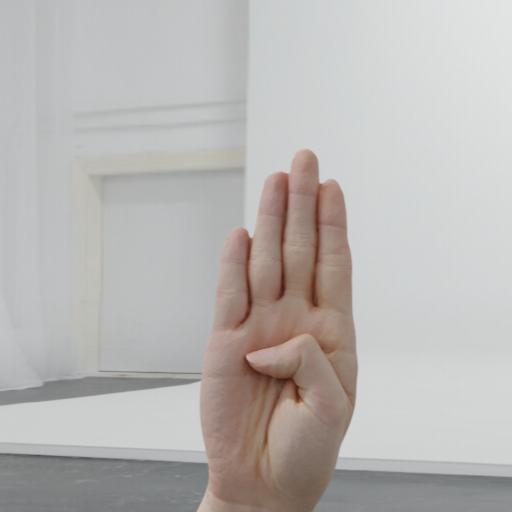B: (195, 144, 359, 512)
